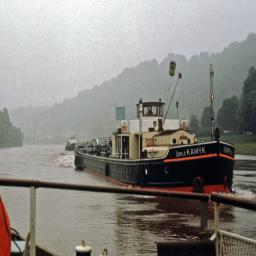tugboat: (72, 57, 238, 207)
